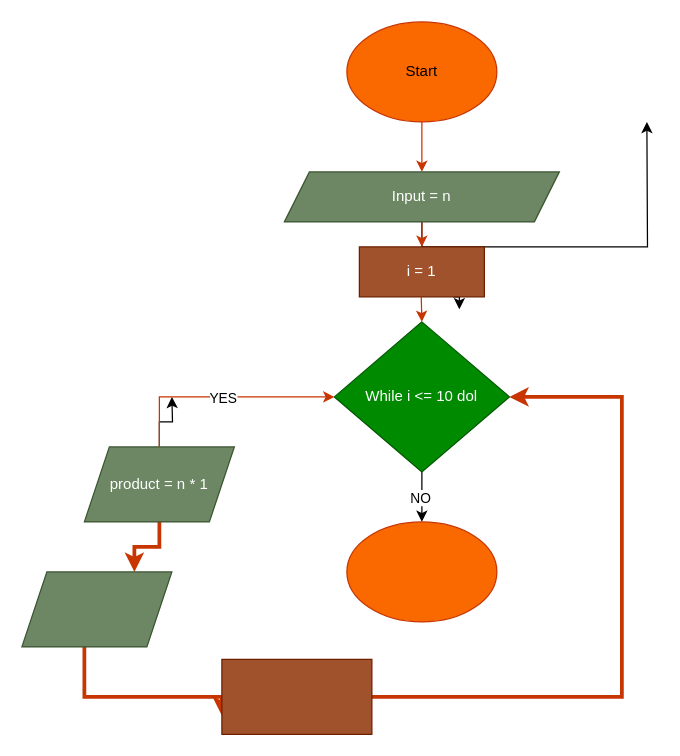
Some shapes in this 680 by 756 pixel diagram are drawn without their labels. The shapes that lost their labels are listed below. From the top down, each one's centre as x and y in pixels, then its label:
the point at 421,571: End
the point at 96,609: Display: "n * 1 = product"
the point at 296,696: i = i + 1
